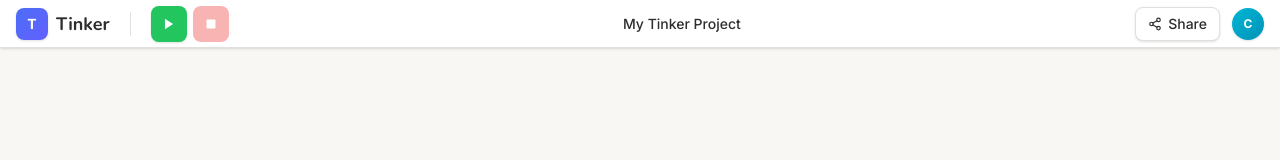
Toolbar › allows editing the project name
Click the button with aria-label "Edit project name": (682, 24) left=611, top=8, right=753, bottom=40
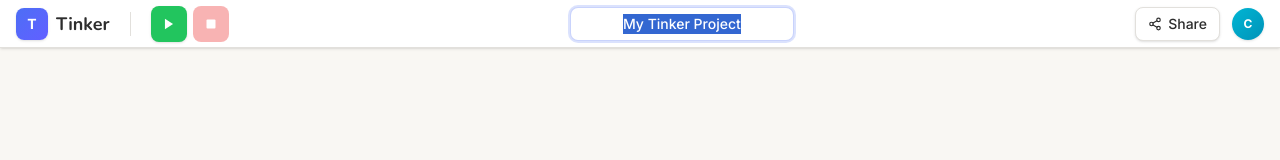
Replace the text in the field named "Project name" with "Cool Game": (682, 24) left=570, top=6, right=794, bottom=40
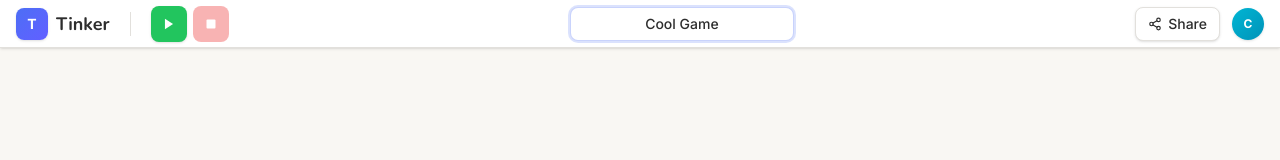
Press Enter
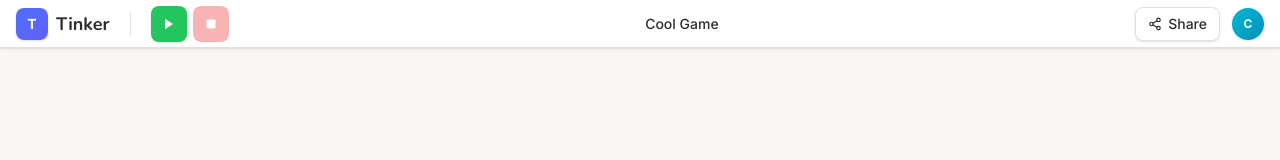
Result: the button "Cool Game" is shown at left=633, top=8, right=731, bottom=40
